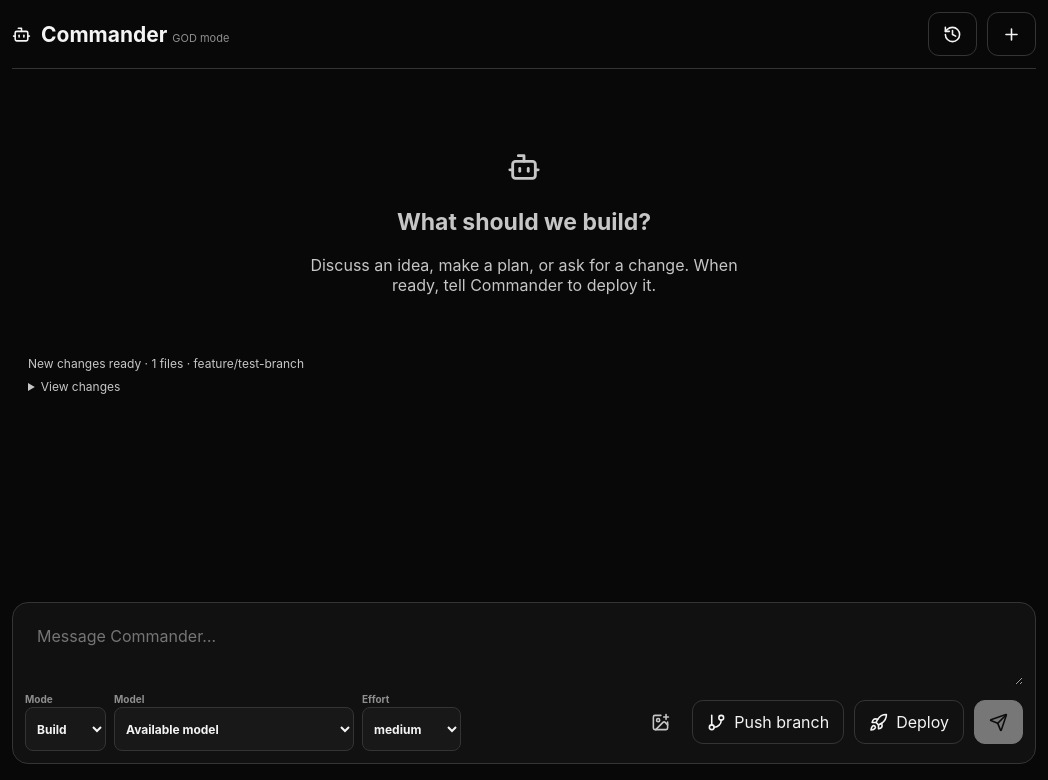
Test case: starts hosted deployment with one click and no extra confirmation
Check: the dropdown labelled "Model" shows "Available model", box [114,707,354,751]
Click the button "Deploy".
click(909, 722)  # box [854,700,964,744]
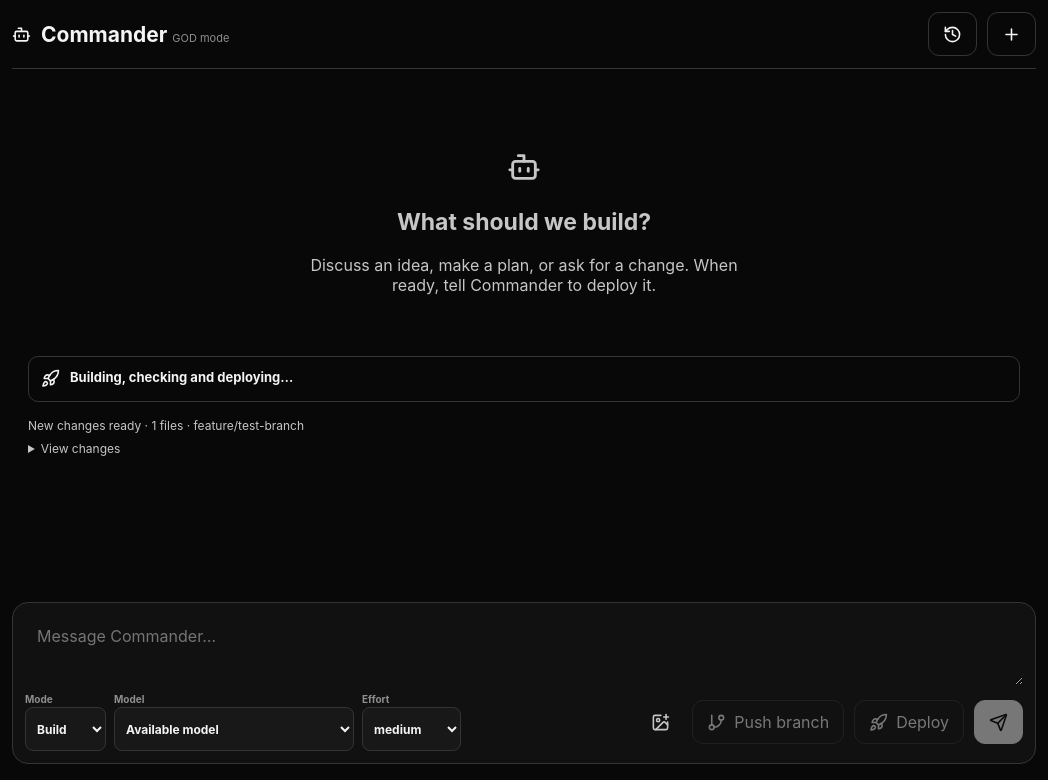
Check: the text "Building, checking and deploying…" is shown, box [70,369,293,385]
